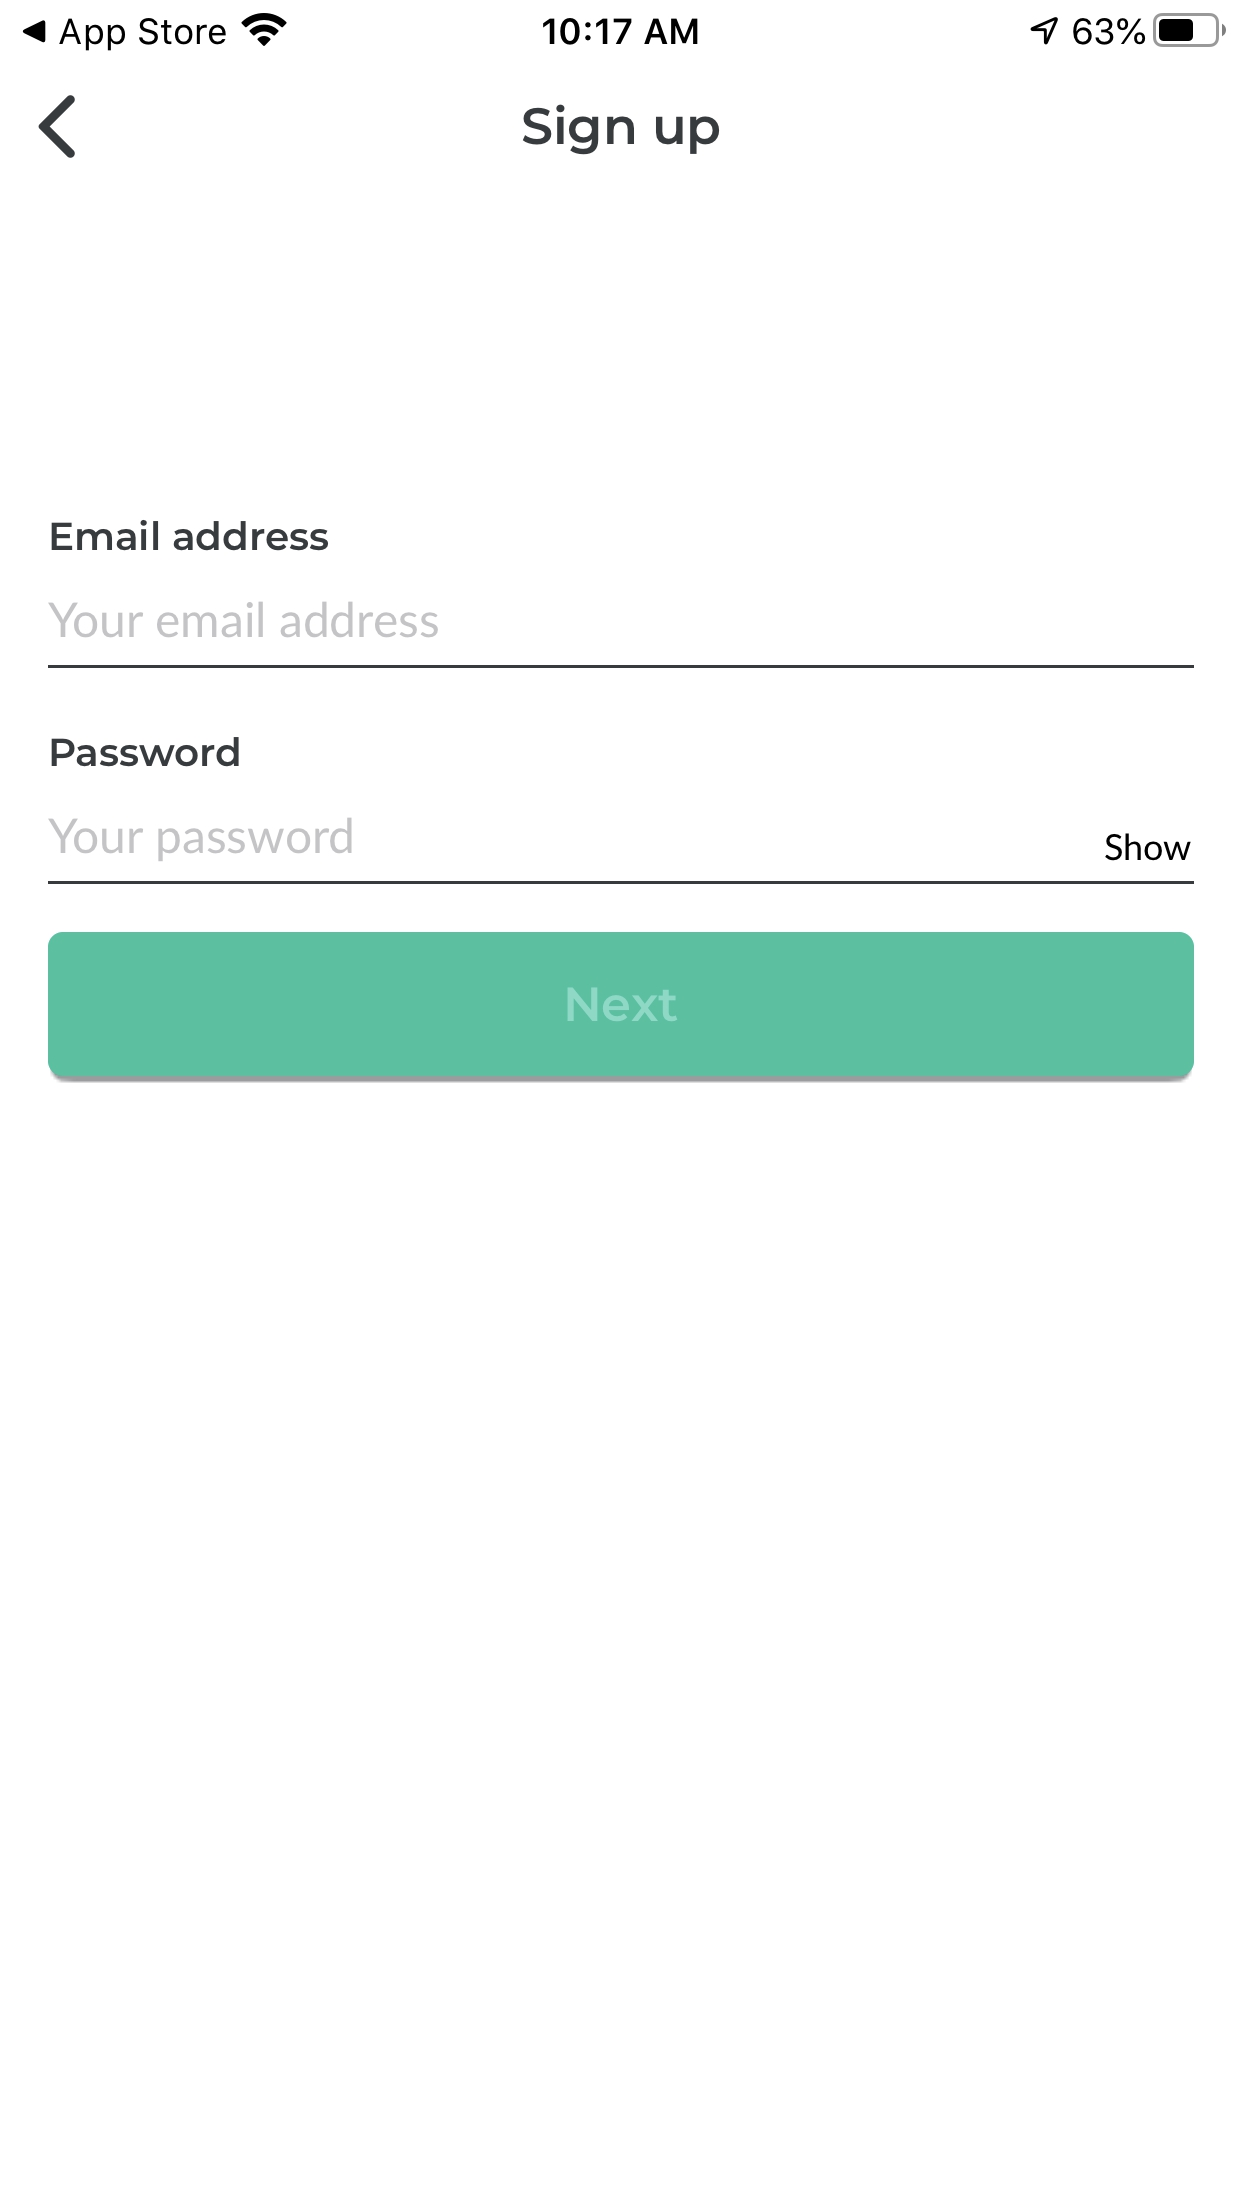EditText: (49, 817, 1193, 884), (49, 601, 1193, 667)
Icon: (38, 96, 74, 158)
Text: (49, 601, 438, 638), (49, 817, 352, 861), (523, 105, 720, 156), (52, 519, 328, 550), (52, 737, 240, 767), (1106, 833, 1190, 861)
TextButton: (49, 933, 1193, 1083)
UpperTaskBar: (2, 2, 1242, 52)
